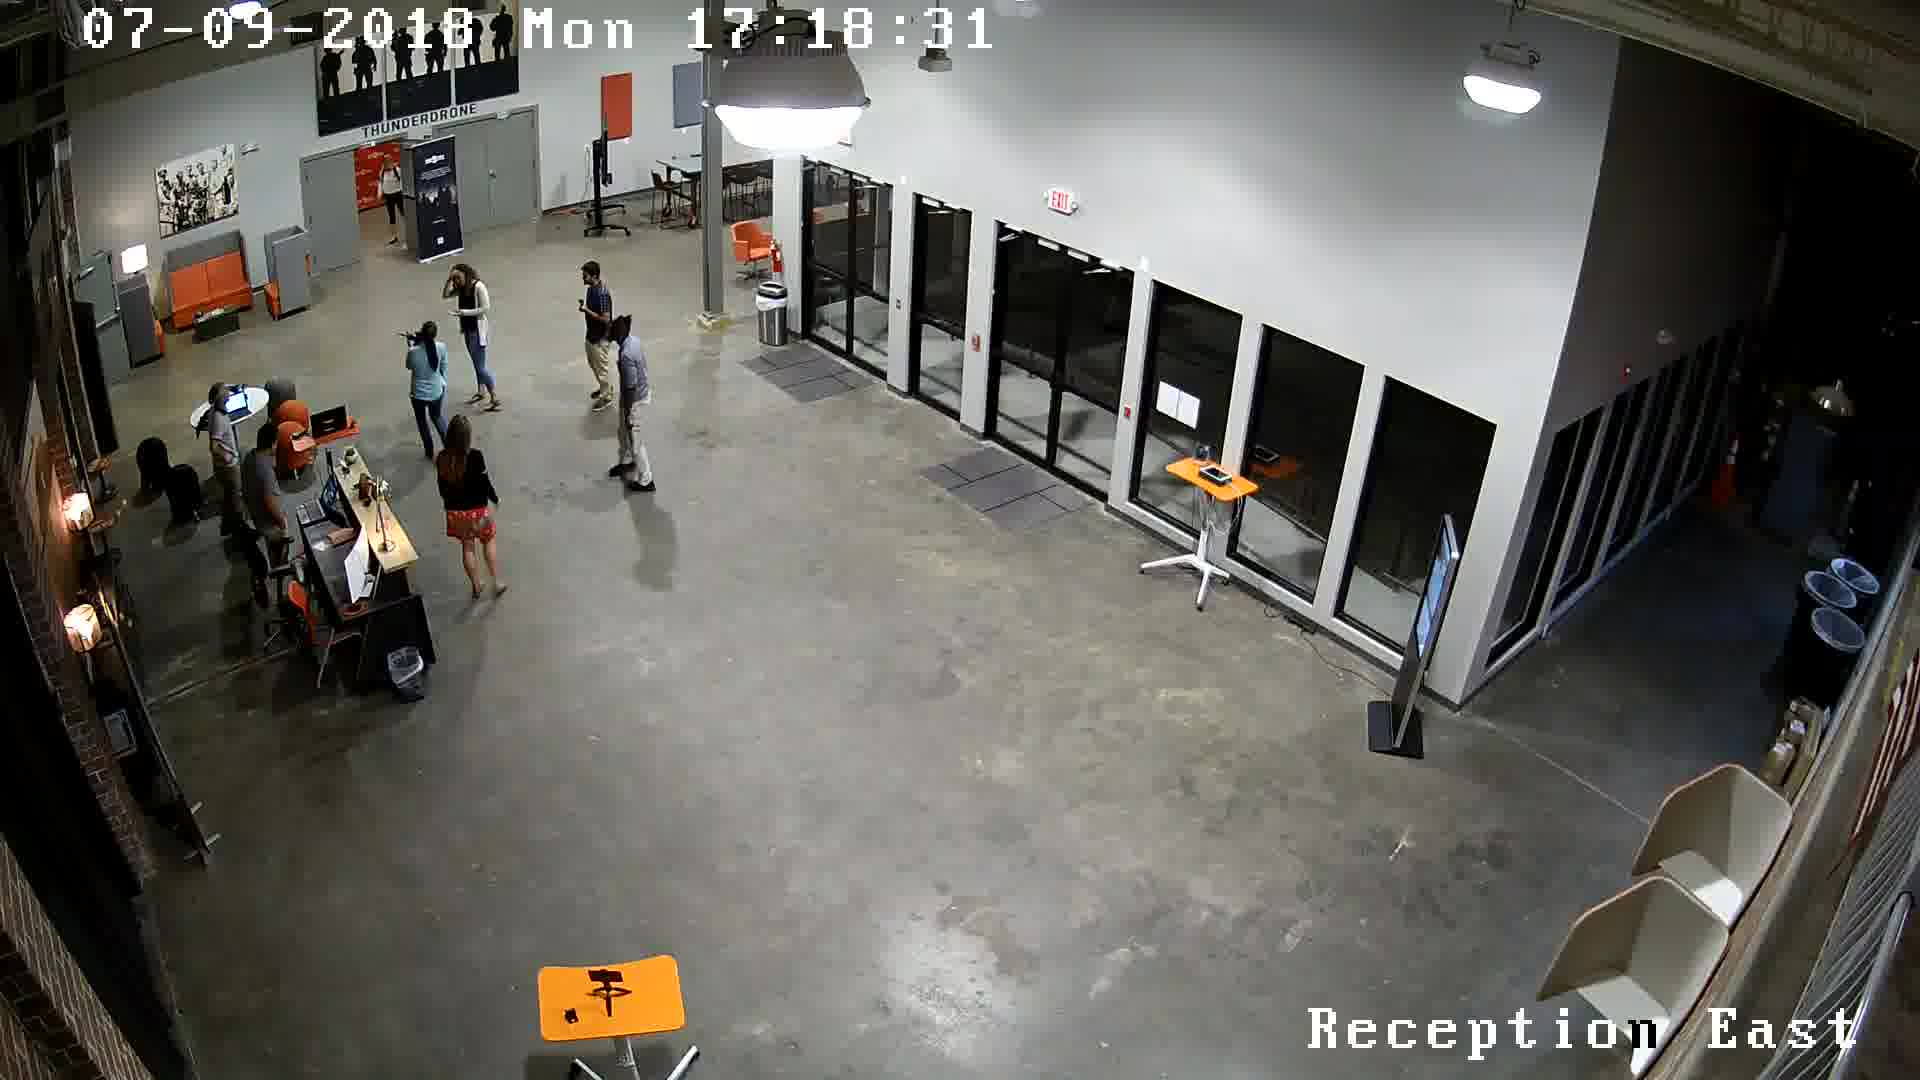pistol: (567, 291, 589, 316)
